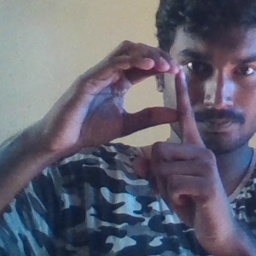P: (67, 37, 219, 200)
